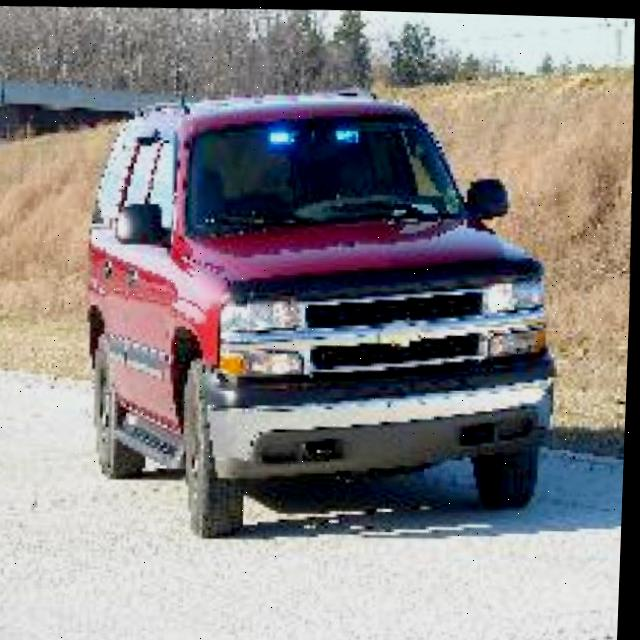emergency: (70, 69, 574, 548)
